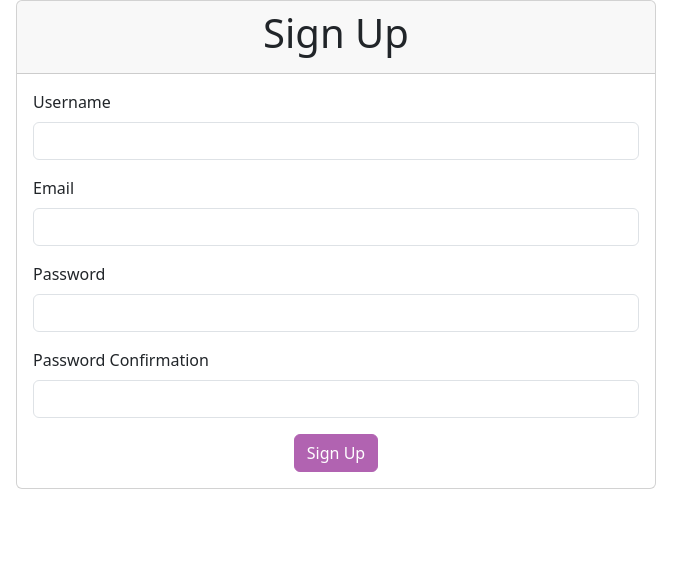
Scenario: Sign Up › when user set same value for password inputs › when user submit form › when network failure occurs › display generic message
Type "user1" into the field labelled "Username".
click(336, 141); type("user1")  # box [33, 122, 639, 160]
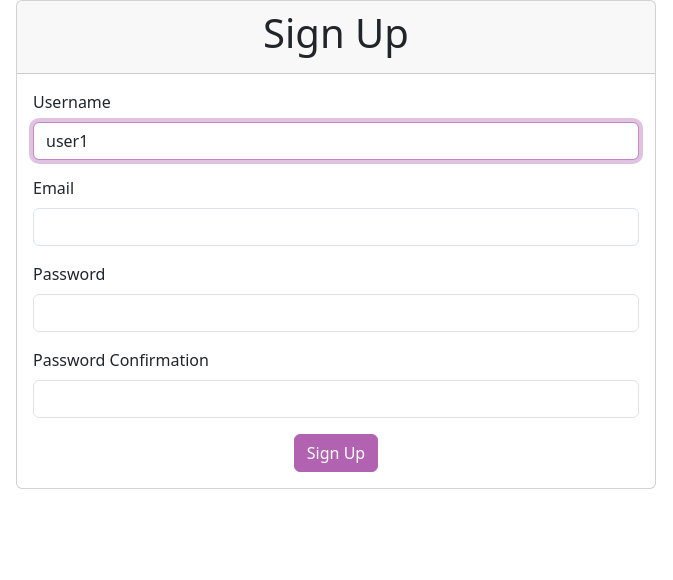
Type "user1@mail.com" into the field labelled "Email".
click(336, 227); type("user1@mail.com")  # box [33, 208, 639, 246]
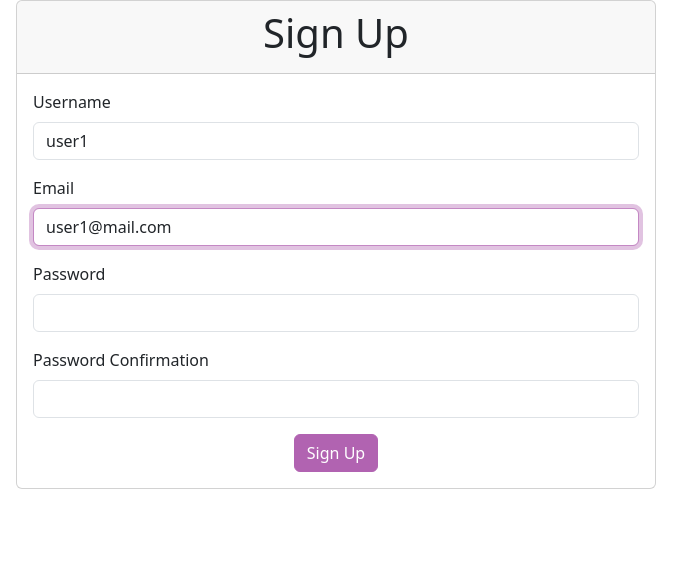
Type "P4ssword" into the password field labelled "Password".
click(336, 313); type("P4ssword")  # box [33, 294, 639, 332]
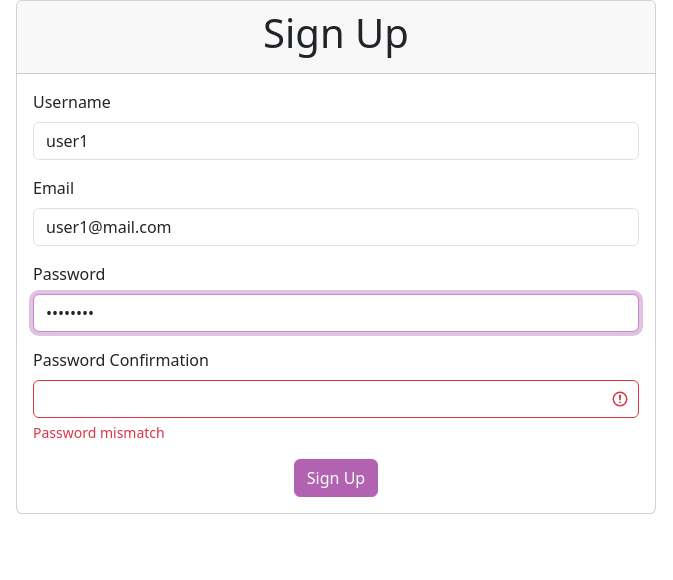
Type "P4ssword" into the password field labelled "Password Confirmation".
click(336, 399); type("P4ssword")  # box [33, 380, 639, 418]
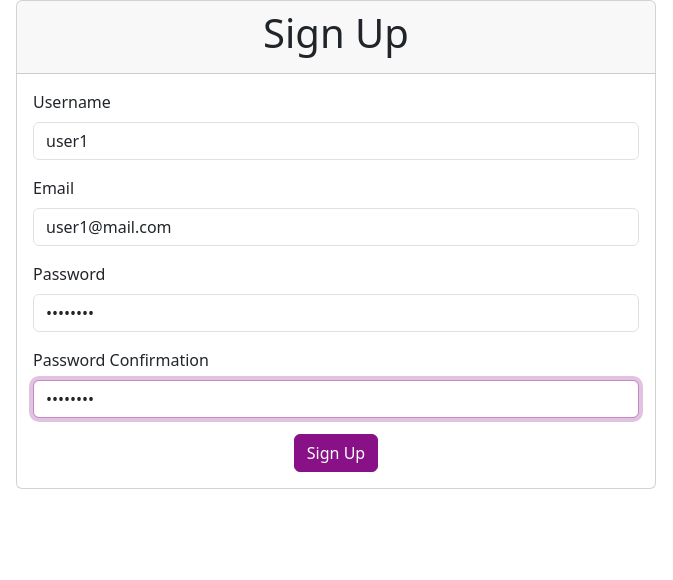
Click the button "Sign Up".
click(336, 453)  # box [294, 434, 378, 472]
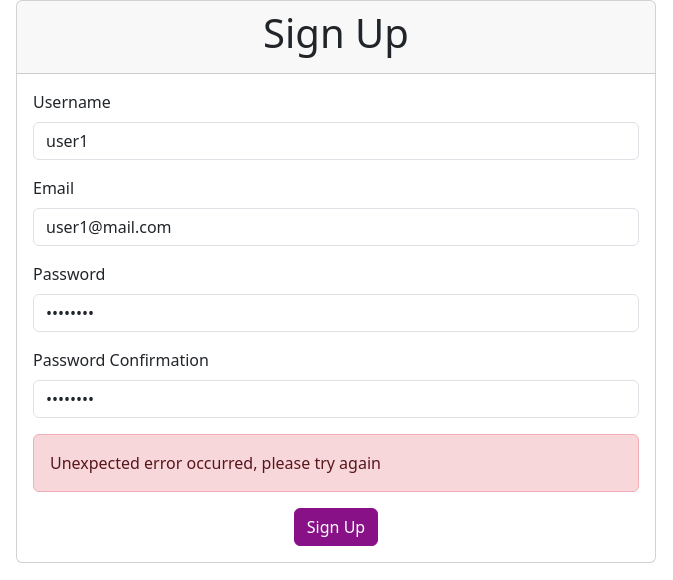
Check: the text "Unexpected error occurred, please try again" is shown, box [33, 434, 639, 492]
